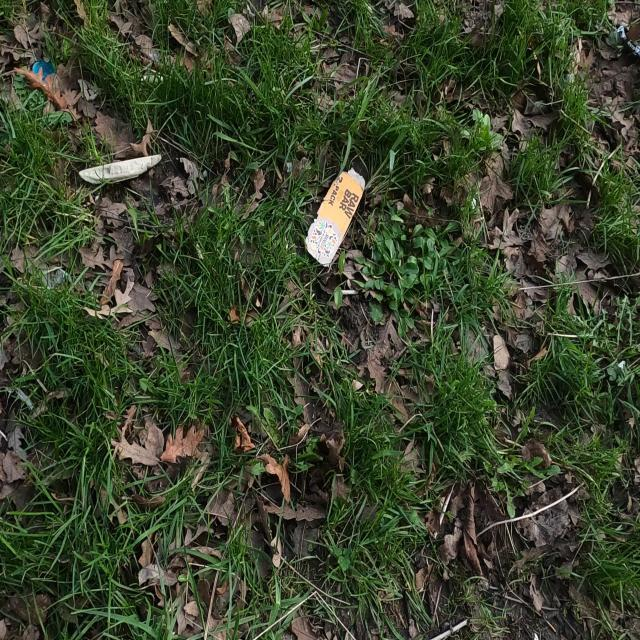Plastic: (296, 164, 374, 276)
